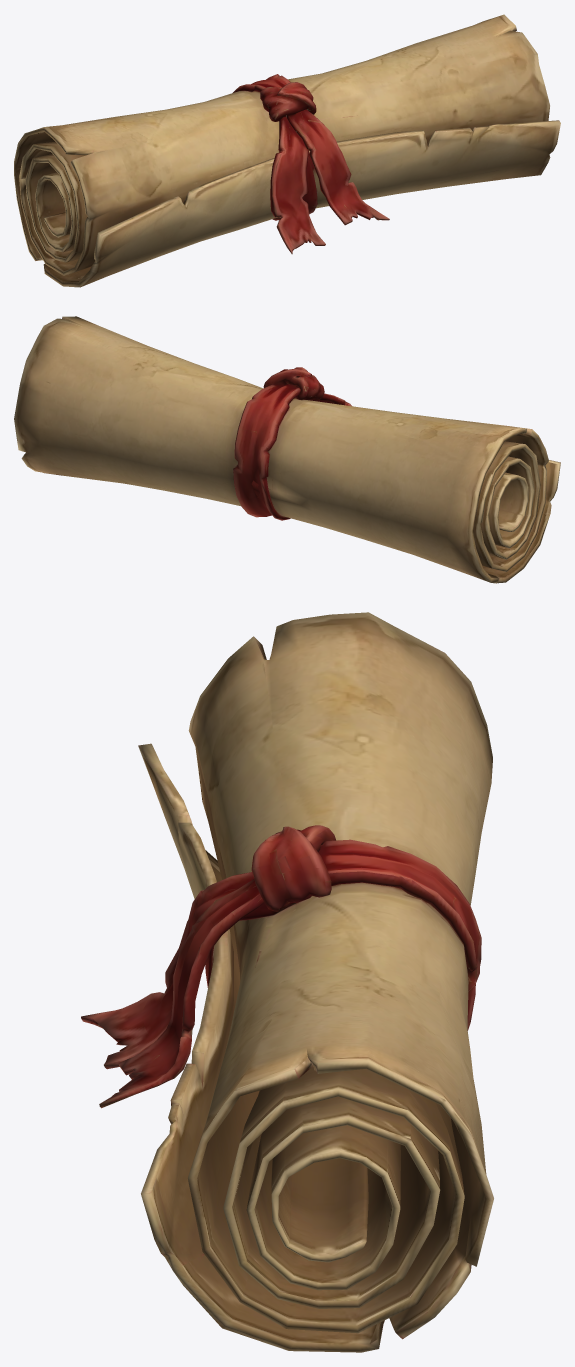
File: rolled_map.glb
3 views of the same model, one above another, from view 1: azimuth 30°, elevation 25°; view 2: azimuth 150°, elevation 25°; view 3: azimuth 270°, elevation 25° (orthographic). The views are drawn at different scales.
Bounding box in the file's own units: 0.9565 × 0.2901 × 0.3701.
Materials: 1 (1 with a texture image).
